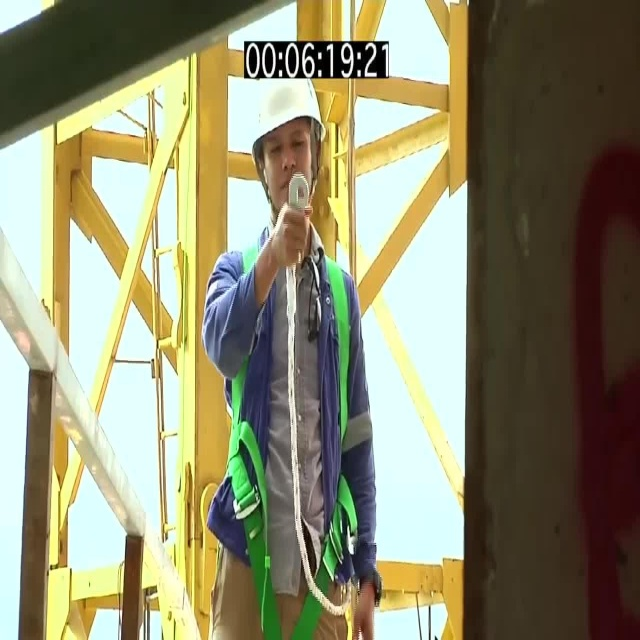Arnes_seguridad: (225, 229, 351, 633)
